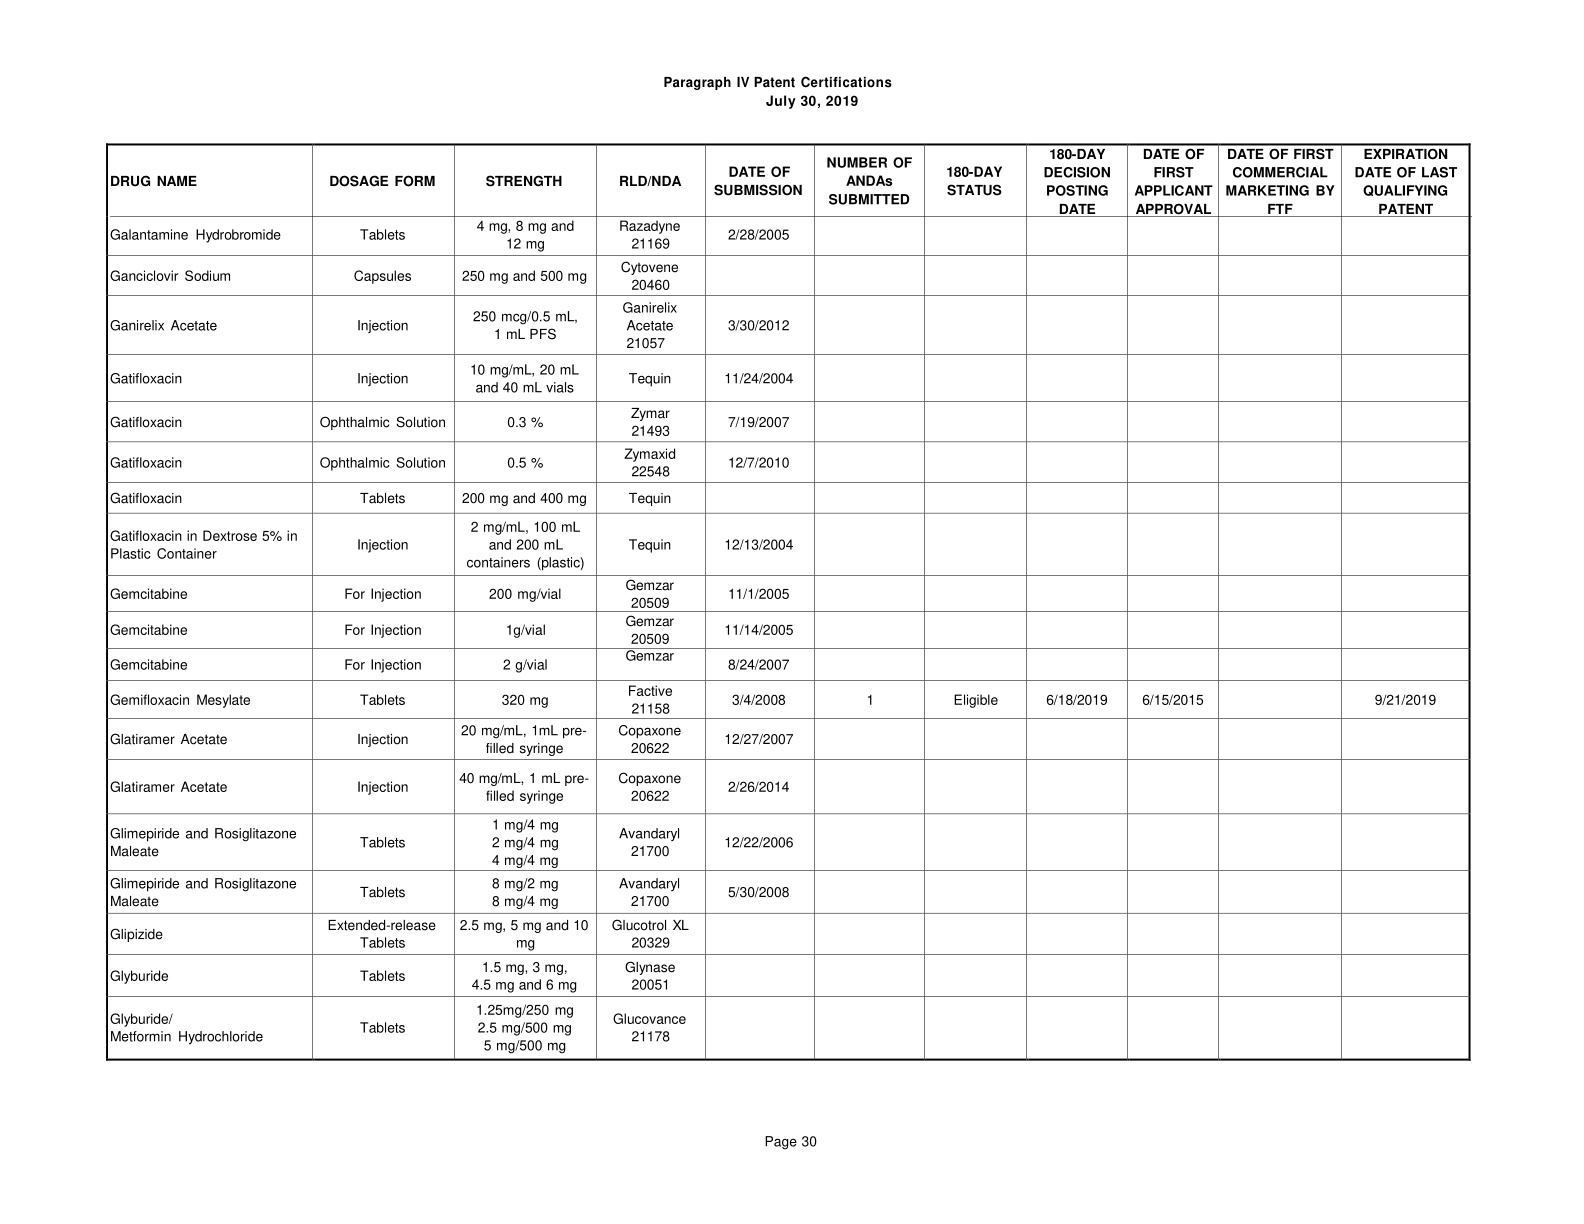full_lined: (104, 141, 1471, 1061)
